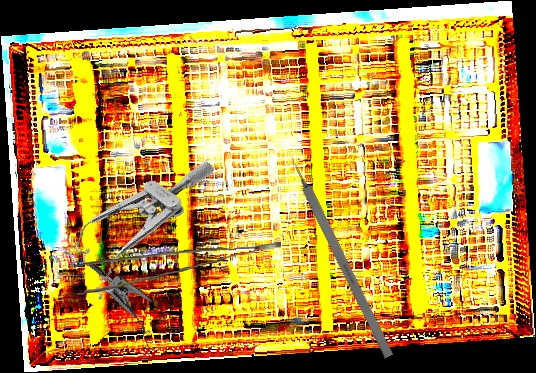Hook Surgical: (282, 146, 395, 359)
Speculum: (53, 124, 216, 310), (65, 258, 190, 359)
Tissue Forceps: (74, 242, 284, 295)
